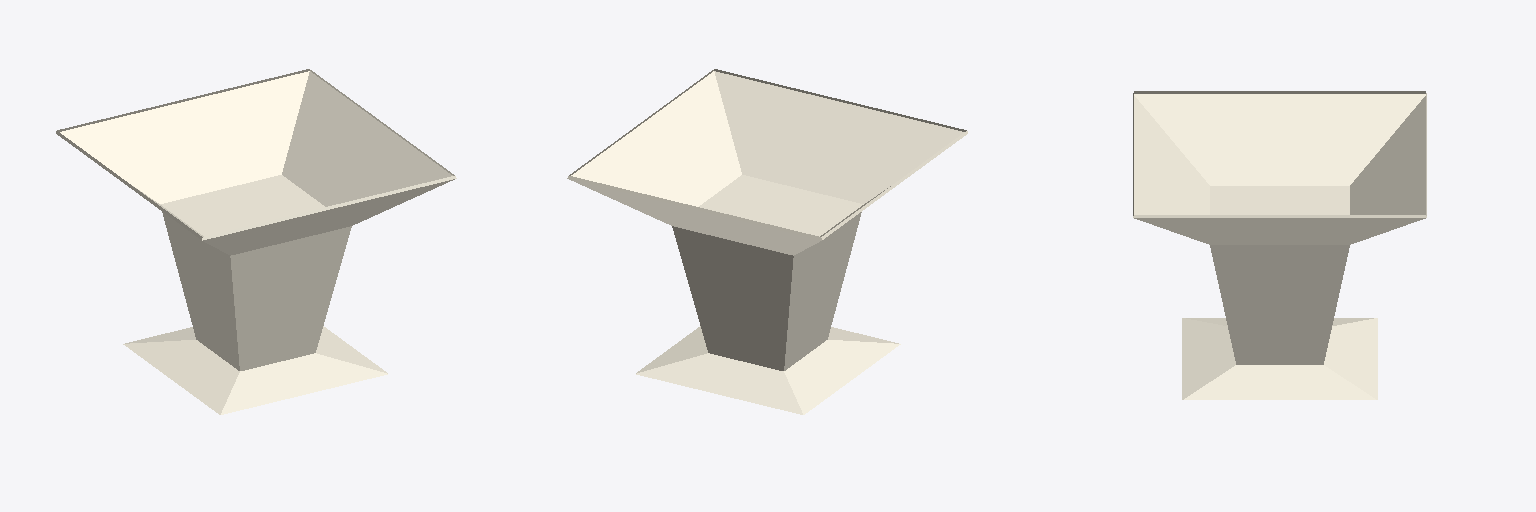
The model's file is cute_holder_1col.obj.
3 views of the same model, side by side, from view 1: azimuth 30°, elevation 25°; view 2: azimuth 150°, elevation 25°; view 3: azimuth 270°, elevation 25° (orthographic).
Visible parts, largest first — view 1: Cube; view 2: Cube; view 3: Cube.
Boxes of the visible parts, x1=… form: Cube: x1=56, y1=69, x2=456, y2=414; Cube: x1=567, y1=69, x2=967, y2=414; Cube: x1=1133, y1=91, x2=1426, y2=399.
Size of the model in its own units: 4.19 by 3.24 by 4.19.